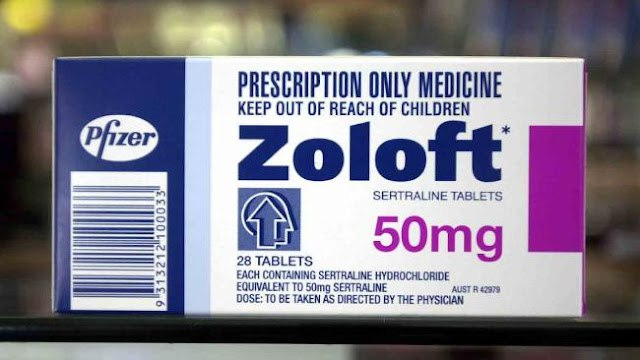Medicine: (41, 48, 592, 324)
